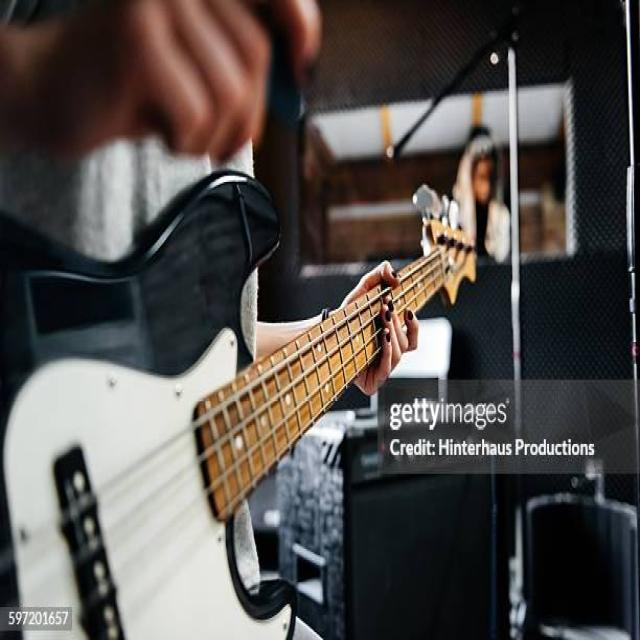bass: (0, 171, 475, 638)
